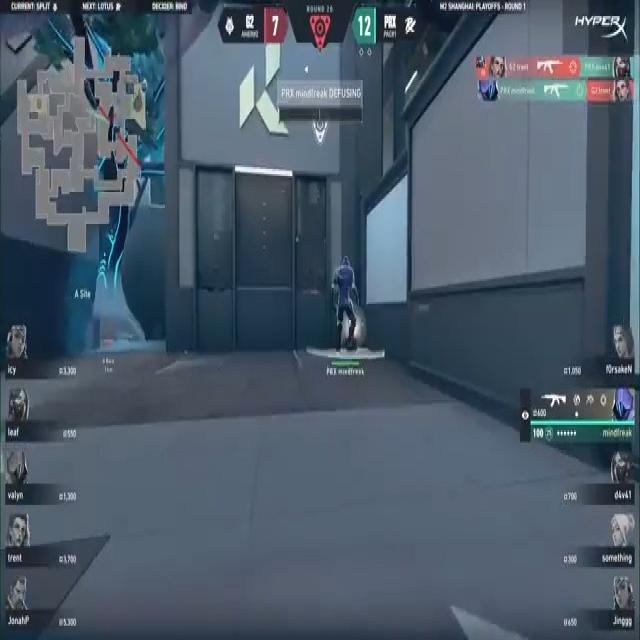ally: (332, 250, 362, 364)
